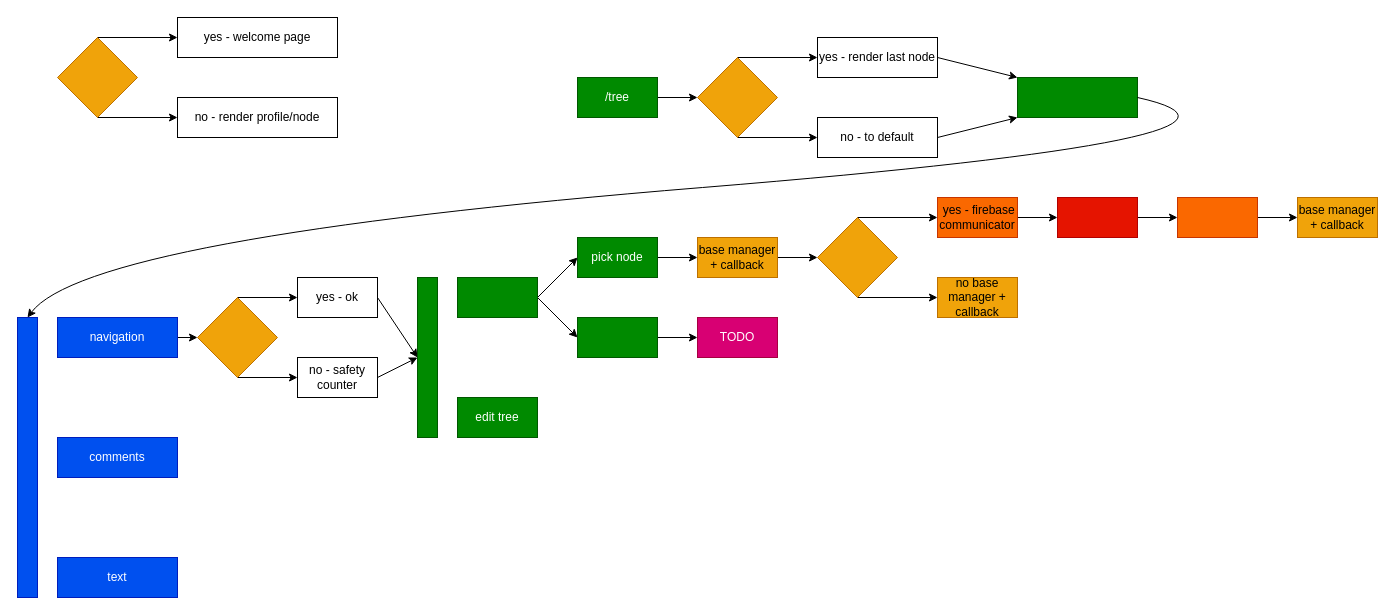
The diagram is 1395 pixels wide and 615 high, and some of its shapes have lost their labels. Here are the shapes that lost their labels. From the top down, the centre of each, then its label:
the point at 97,77: default URL
the point at 737,97: has history
the point at 1077,97: components interaction
the point at 1097,217: firebase
the point at 1217,217: communicator
the point at 857,257: need download
the point at 497,297: navigate
the point at 237,337: auth
the point at 617,337: search
